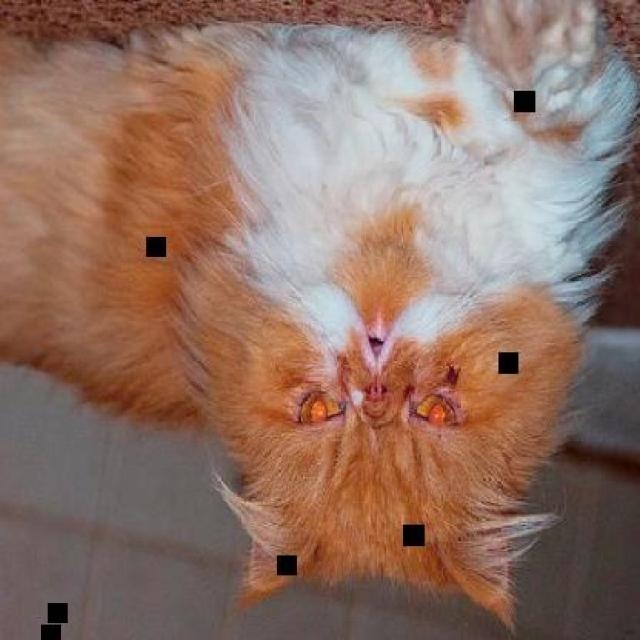cat: (2, 1, 626, 622)
